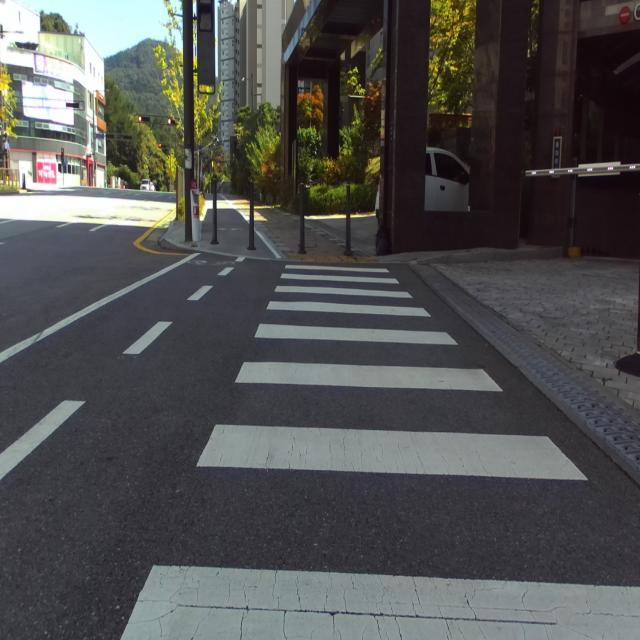횡단보도: (120, 264, 640, 640)
